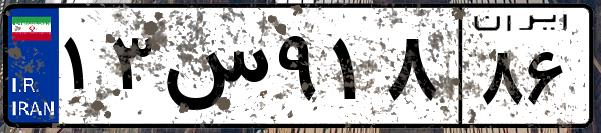1: (330, 28, 385, 110), (57, 26, 110, 100)
3: (110, 28, 158, 98)
6: (525, 38, 570, 115)
8: (385, 28, 445, 110), (475, 38, 525, 113)
9: (270, 28, 330, 110)
س: (158, 20, 270, 120)
